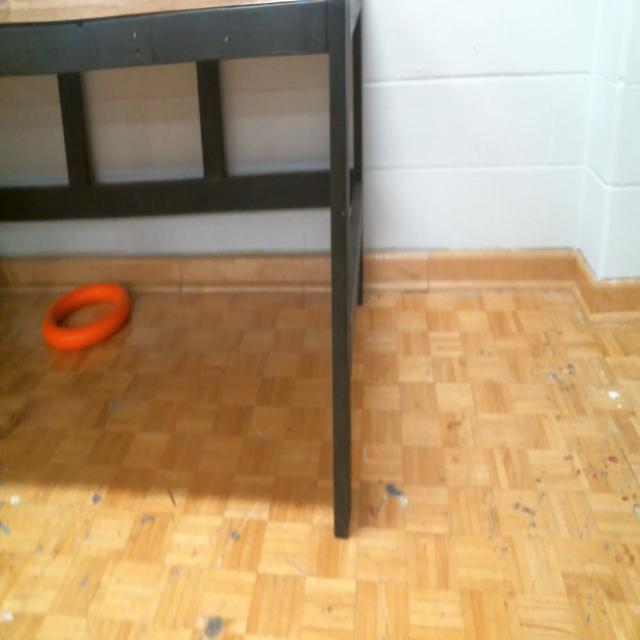note: (43, 277, 135, 351)
